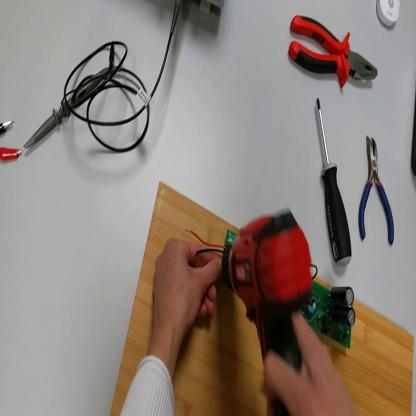electric screwdriver: (222, 209, 310, 415)
hand: (263, 314, 358, 416), (153, 239, 224, 340)
high voltage board: (188, 227, 356, 347)
oscilloscope: (199, 3, 226, 16)
oscilloscope probe tip: (24, 68, 122, 151)
pliers: (288, 9, 382, 83), (359, 136, 394, 247)
screwdriver-: (316, 101, 354, 267)
welder station: (411, 85, 416, 175)
working area: (112, 180, 416, 416)
